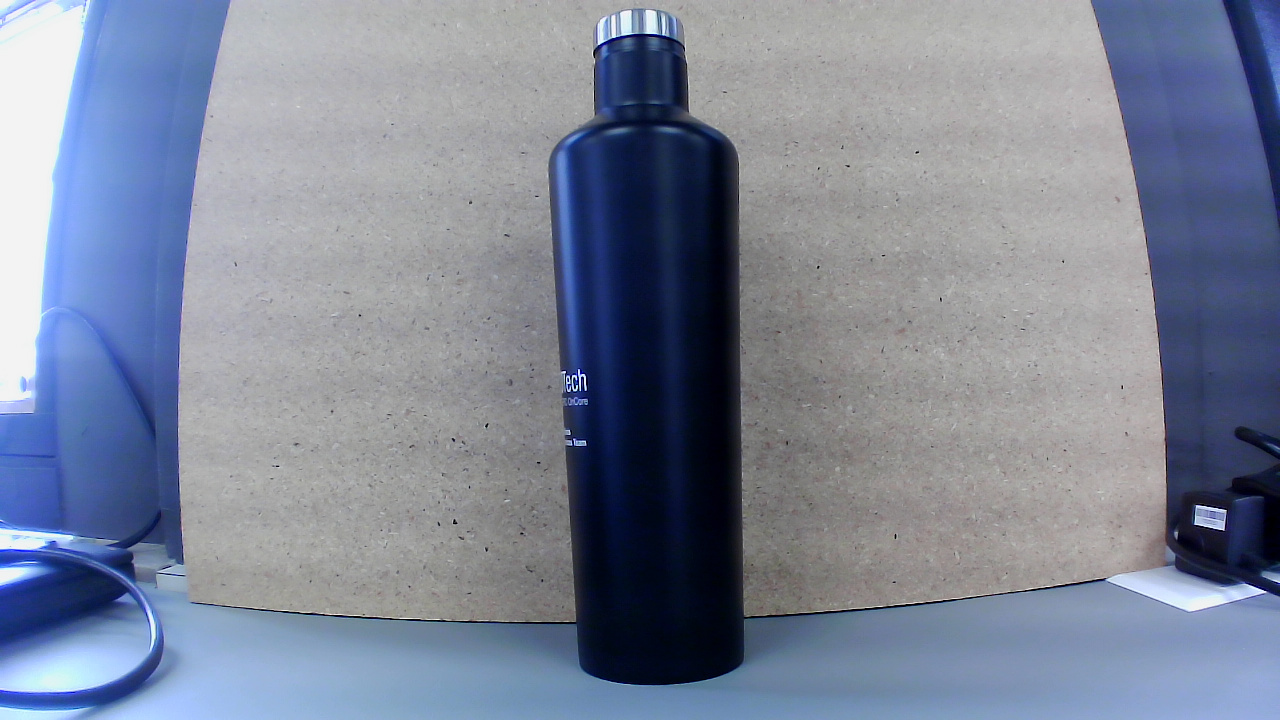neobottle: (542, 5, 764, 690)
